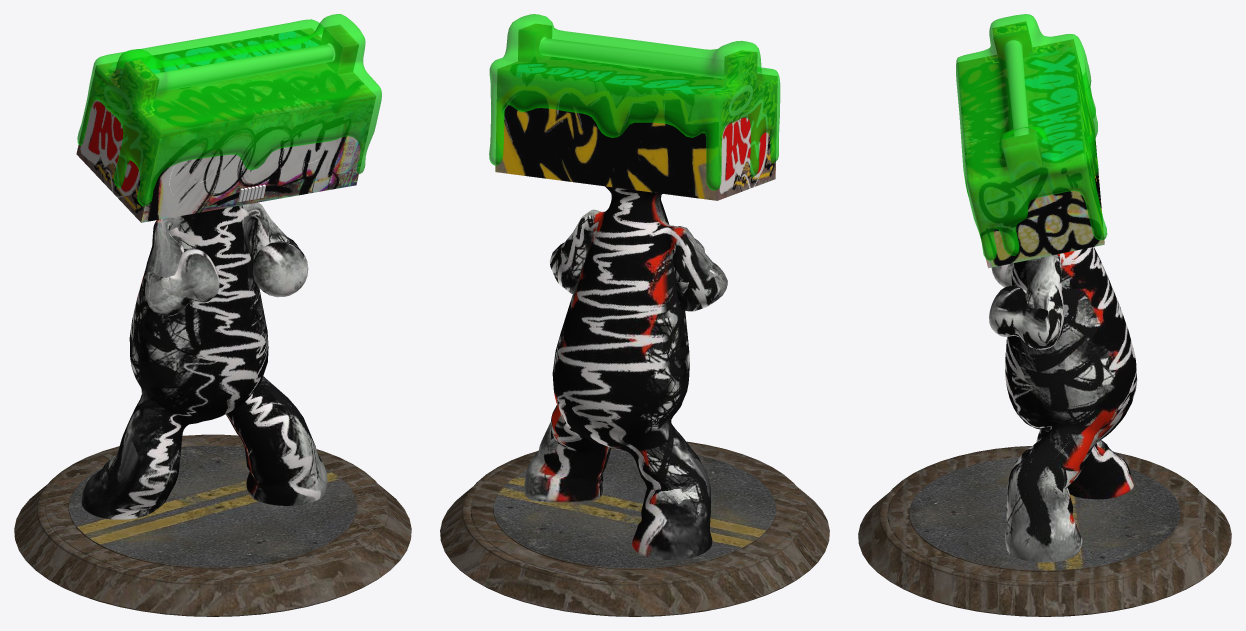
3 renders of one model, left to right at view 1: azimuth 30°, elevation 25°; view 2: azimuth 150°, elevation 25°; view 3: azimuth 270°, elevation 25°, orthographic. The views are drawn at different scales.
Size of the model in its own units: 1.45 by 2.06 by 1.45.
Materials: 6 (4 with a texture image).
